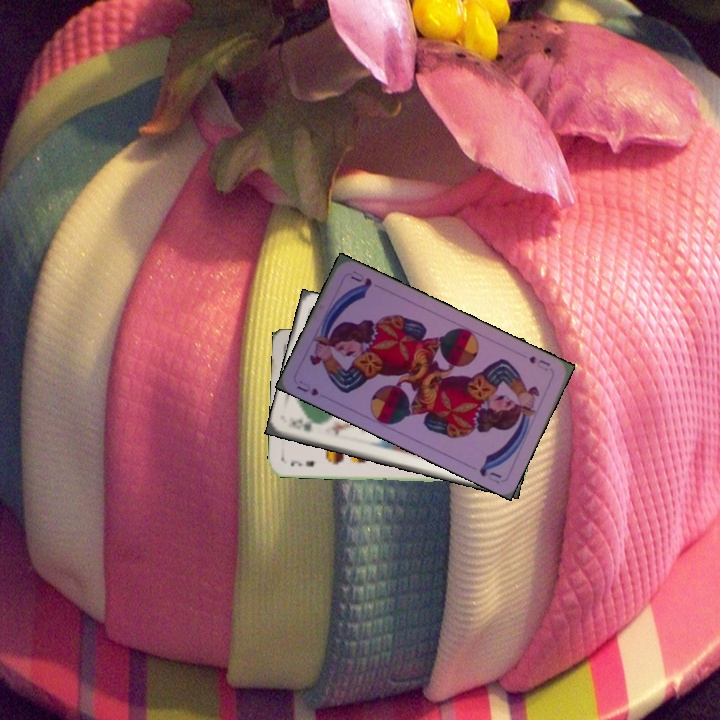E7: (287, 456, 317, 469)
GK: (287, 417, 314, 434)
SU: (293, 376, 321, 399), (525, 352, 553, 374)
